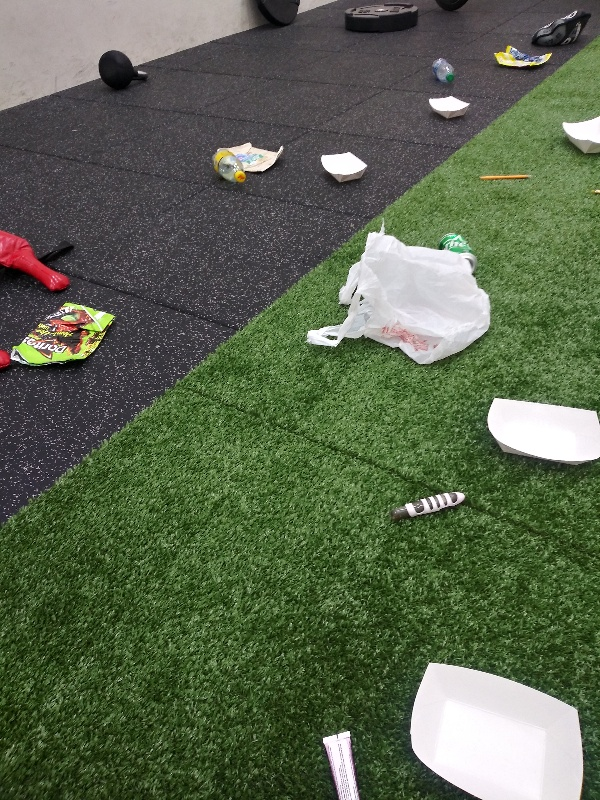bag: (9, 297, 119, 377), (223, 138, 290, 173), (492, 42, 555, 73)
bottle: (205, 146, 246, 185), (425, 55, 459, 87)
can: (431, 229, 481, 274)
plate: (403, 660, 589, 800), (482, 391, 600, 467), (315, 149, 371, 187), (557, 116, 600, 160), (423, 93, 472, 120)
